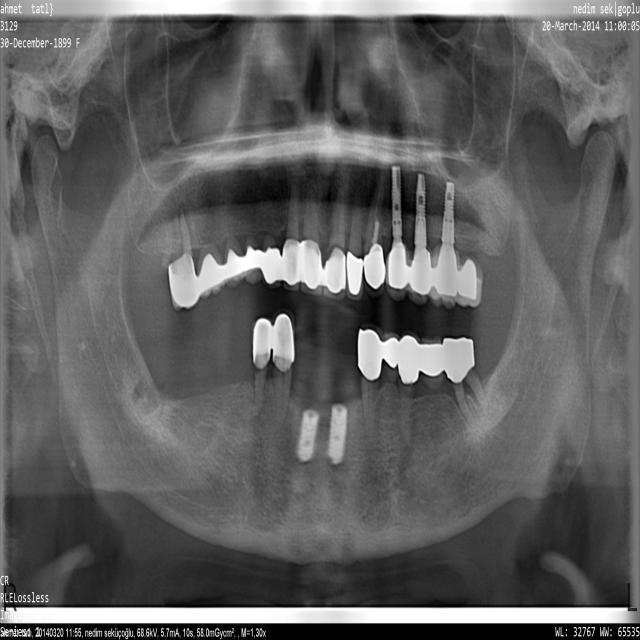Canine: (360, 325, 384, 449), (364, 173, 386, 297), (273, 310, 295, 422), (262, 193, 282, 286)
Incisores: (324, 171, 346, 300), (301, 174, 321, 296), (346, 185, 363, 299), (283, 180, 299, 291)
Premolars: (407, 183, 430, 305), (386, 173, 408, 300), (399, 331, 419, 445), (223, 198, 246, 287), (252, 319, 272, 416), (384, 332, 402, 432), (244, 200, 261, 284)
molars: (443, 339, 488, 429), (429, 181, 457, 310), (454, 204, 485, 308), (166, 207, 197, 310), (195, 201, 224, 299), (420, 336, 446, 427)
